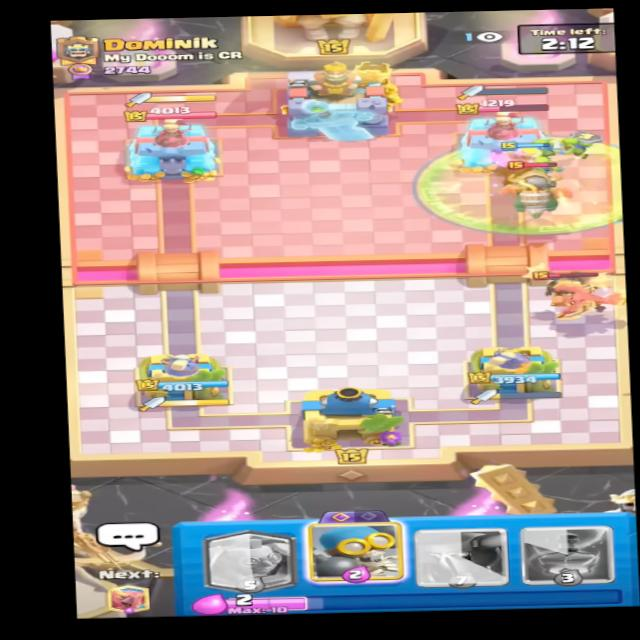inferno-dragon: (504, 158, 569, 221)
lava-hound: (527, 265, 606, 311)
